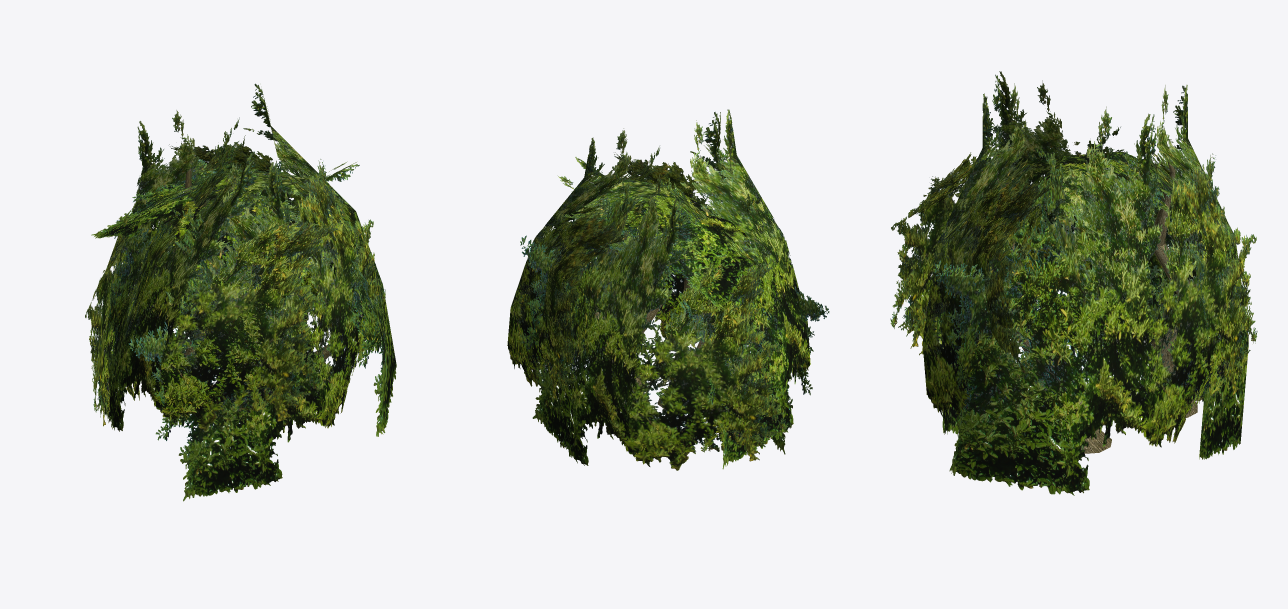
The model's file is Bush.fbx.
The picture shows the model from 3 angles, left to right: view 1: azimuth 30°, elevation 25°; view 2: azimuth 150°, elevation 25°; view 3: azimuth 270°, elevation 25°; orthographic projection. The views are drawn at different scales.
Parts seen in each view (by area): view 1: Foliage_3_2, Foliage_1_2, Foliage_3, Foliage_1, Foliage, Foliage_2, Foliage_2_3, Foliage_4, Foliage_4_2, Foliage_2_2; view 2: Foliage_2_2, Foliage, Foliage_3, Foliage_3_2, Foliage_2_3, Foliage_4, Foliage_2, Foliage_4_2, Foliage_1, Foliage_1_2; view 3: Foliage_2_3, Foliage_2, Foliage_1_2, Foliage_1, Foliage_3, Foliage_2_2, Foliage_3_2, Foliage, Foliage_4_2, Foliage_4, Cylinder.
Part boxes in pixels (left/top/right/bottom): Foliage_3_2: left=97, top=151, right=332, bottom=431; Foliage_1_2: left=129, top=161, right=385, bottom=501; Foliage_3: left=97, top=135, right=340, bottom=431; Foliage_1: left=128, top=159, right=385, bottom=500; Foliage: left=85, top=112, right=281, bottom=426; Foliage_2: left=169, top=84, right=396, bottom=436; Foliage_2_3: left=193, top=83, right=396, bottom=436; Foliage_4: left=91, top=158, right=363, bottom=278; Foliage_4_2: left=91, top=157, right=360, bottom=276; Foliage_2_2: left=85, top=110, right=284, bottom=429; Foliage_2_2: left=520, top=173, right=787, bottom=470; Foliage: left=520, top=170, right=787, bottom=465; Foliage_3: left=660, top=109, right=810, bottom=468; Foliage_3_2: left=662, top=110, right=810, bottom=467; Foliage_2_3: left=507, top=130, right=659, bottom=390; Foliage_4: left=557, top=157, right=753, bottom=310; Foliage_2: left=511, top=128, right=659, bottom=400; Foliage_4_2: left=561, top=157, right=754, bottom=310; Foliage_1: left=601, top=112, right=829, bottom=454; Foliage_1_2: left=600, top=112, right=829, bottom=452; Foliage_2_3: left=934, top=106, right=1257, bottom=494; Foliage_2: left=935, top=107, right=1256, bottom=495; Foliage_1_2: left=922, top=91, right=1048, bottom=433; Foliage_1: left=927, top=83, right=1053, bottom=434; Foliage_3: left=890, top=71, right=1186, bottom=348; Foliage_2_2: left=1116, top=86, right=1248, bottom=458; Foliage_3_2: left=891, top=74, right=1187, bottom=355; Foliage: left=1103, top=85, right=1248, bottom=459; Foliage_4_2: left=1003, top=152, right=1211, bottom=277; Foliage_4: left=1006, top=151, right=1211, bottom=283; Cylinder: left=1148, top=161, right=1197, bottom=417.
Bounding box in the file's own units: 76.19 × 108 × 70.59.
Materials: 11 (11 with a texture image).
